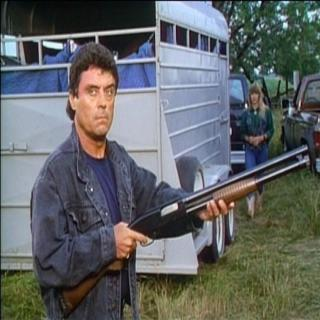gun: (52, 127, 310, 316)
